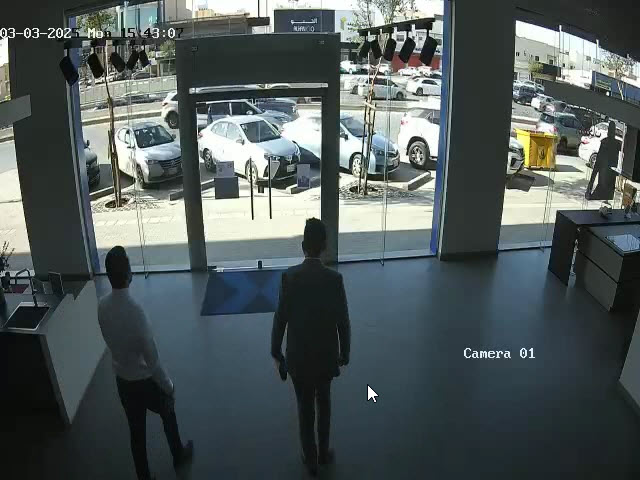employee: (97, 245, 193, 480)
male: (270, 217, 352, 465)
